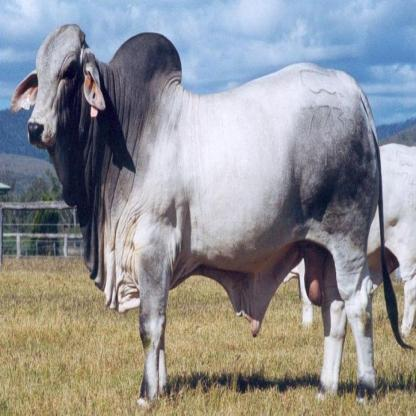cow: (9, 22, 416, 402), (282, 142, 416, 337)
